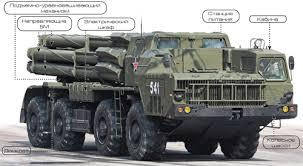MIL_SAM_TEL: (21, 30, 296, 157)
